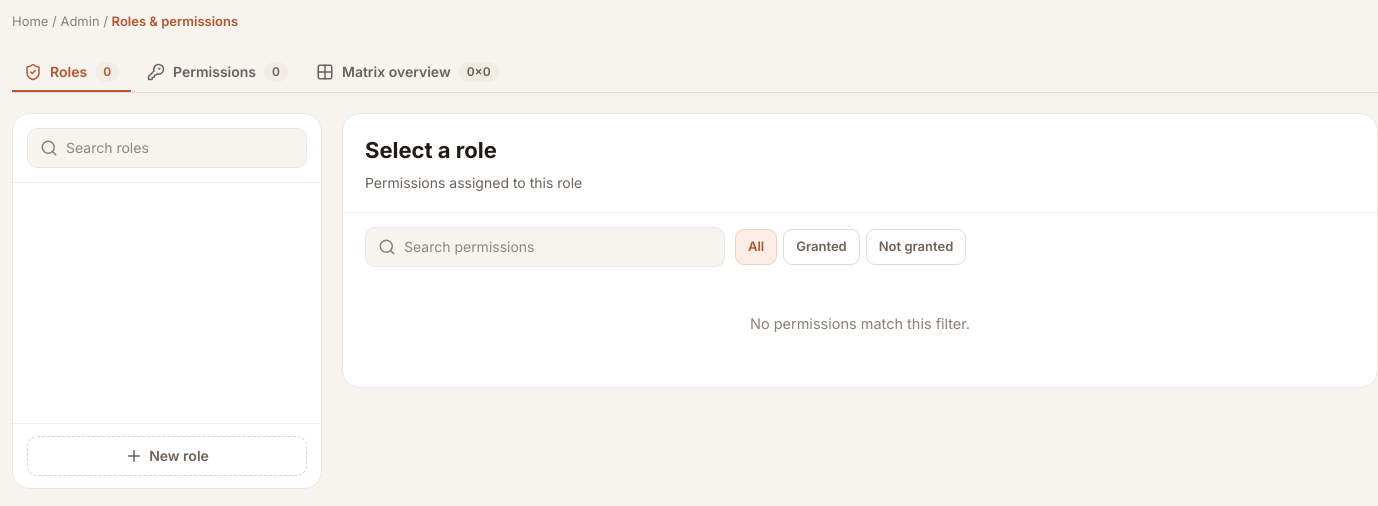
it: administration screens › keeps role creation in its tab and explains the matrix
The width and height of the screenshot is (1378, 506).
Expected: the button "New role" is shown, [27, 436, 307, 476]
Click the tab "Matrix overview 0×0": (407, 72) [304, 54, 511, 92]
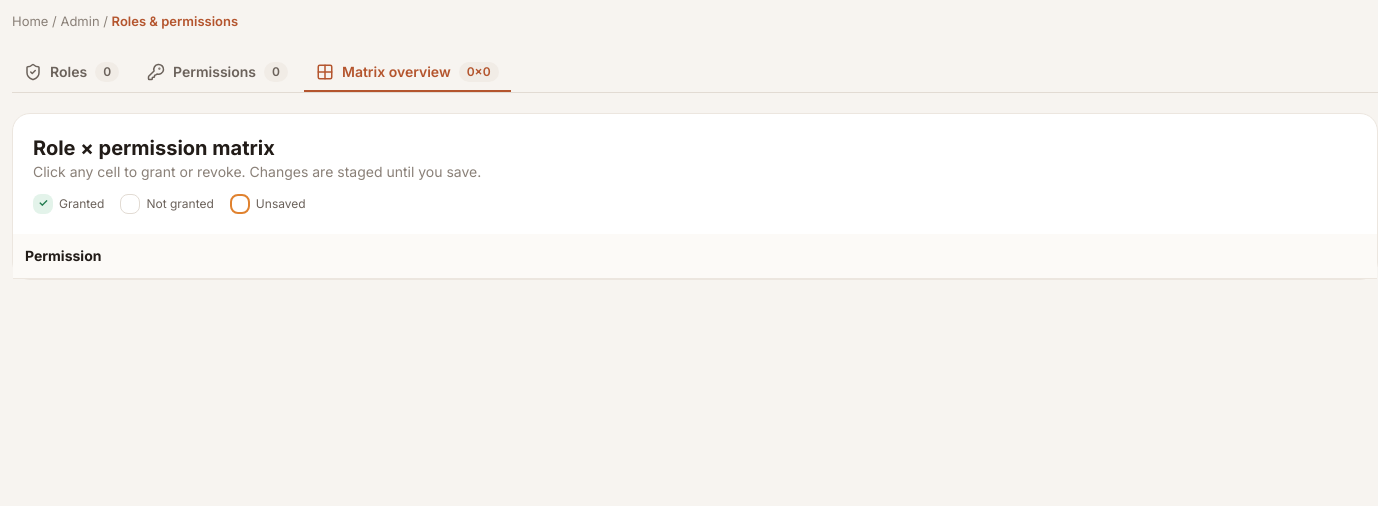
Expected: the list item "Not granted" is shown, [120, 194, 214, 214]
Now the list item "Granted" is shown, box [59, 196, 104, 210]
Now the list item "Unsaved" is shown, box [230, 194, 306, 214]
